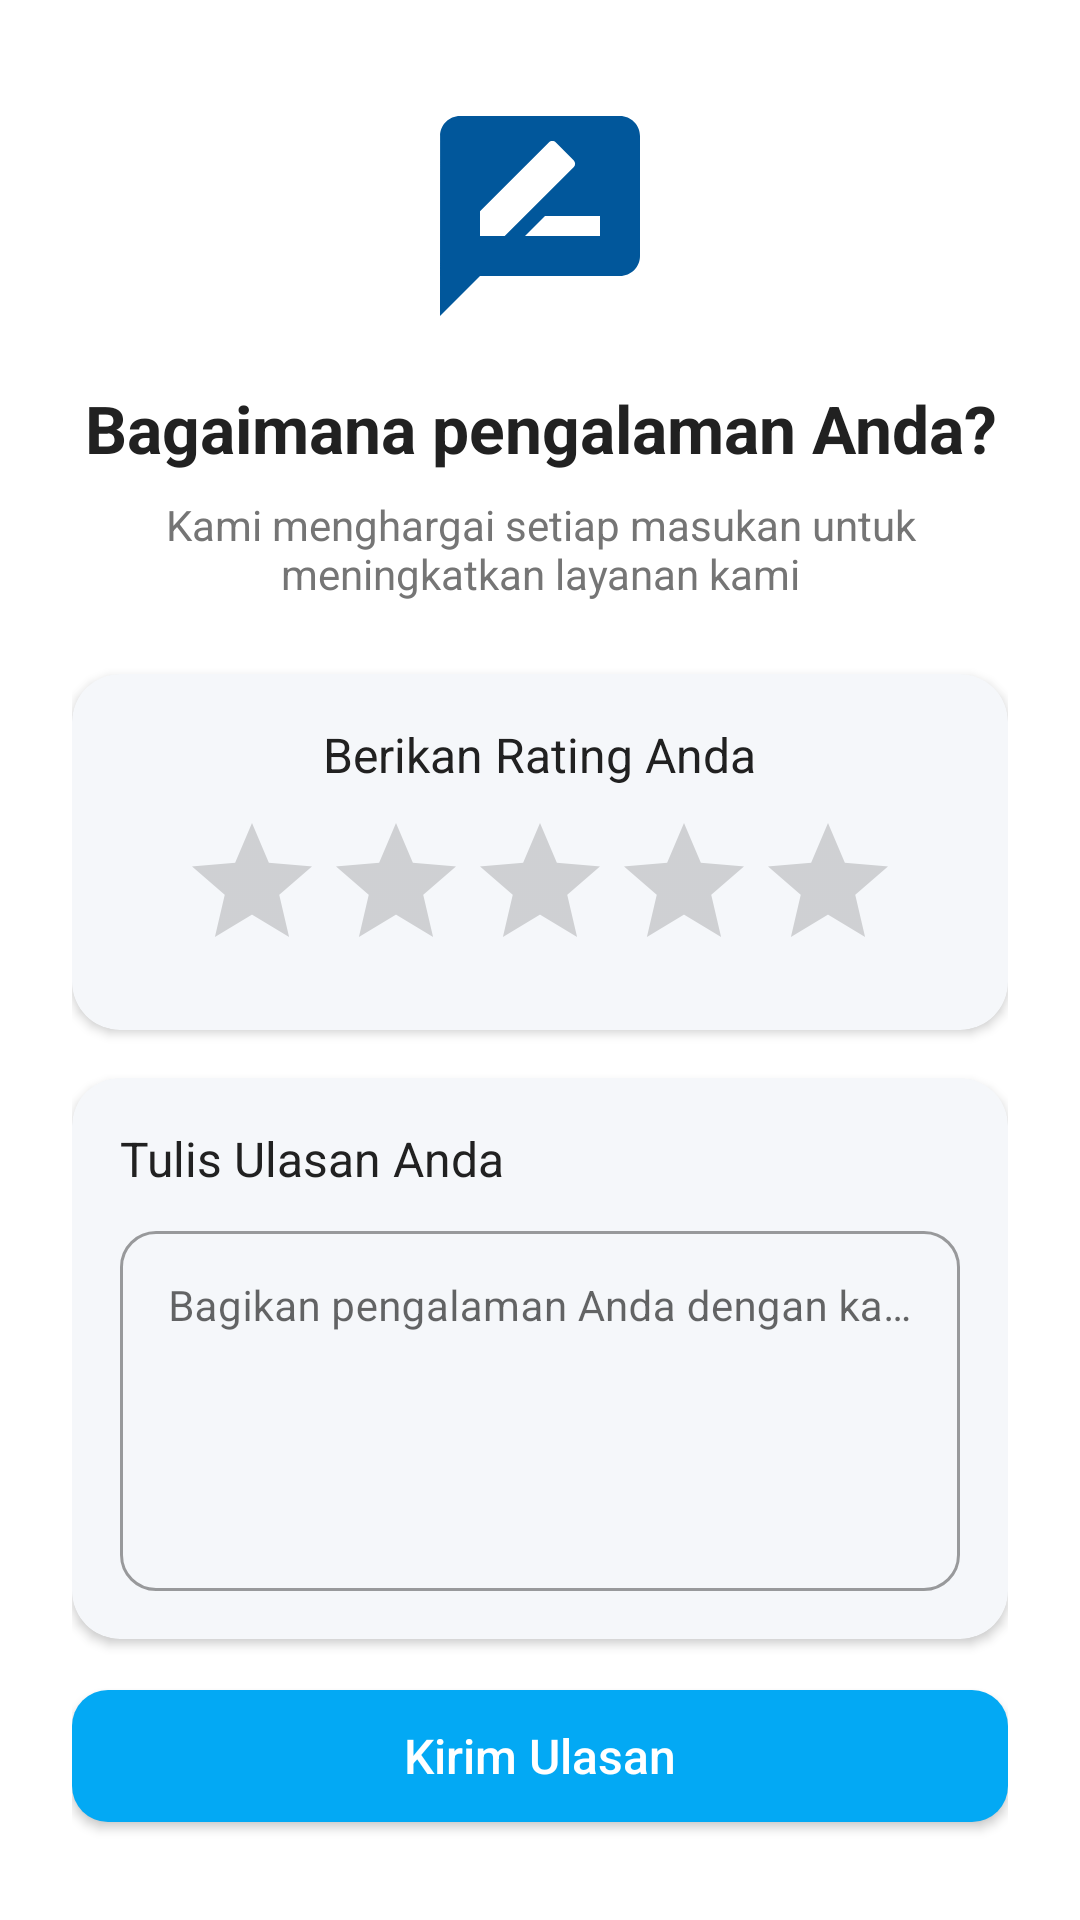

Point at icon controls on the screen. Image size 1080×1920, points as [x,y].
feedback: [540,216]
